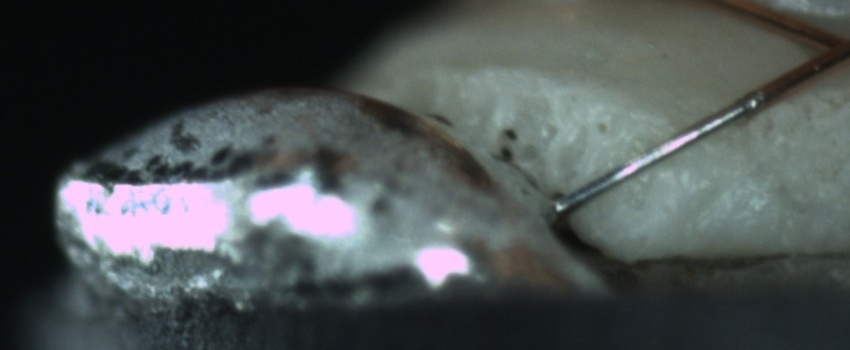CL: (798, 16, 850, 76)
TS: (553, 89, 763, 220)
